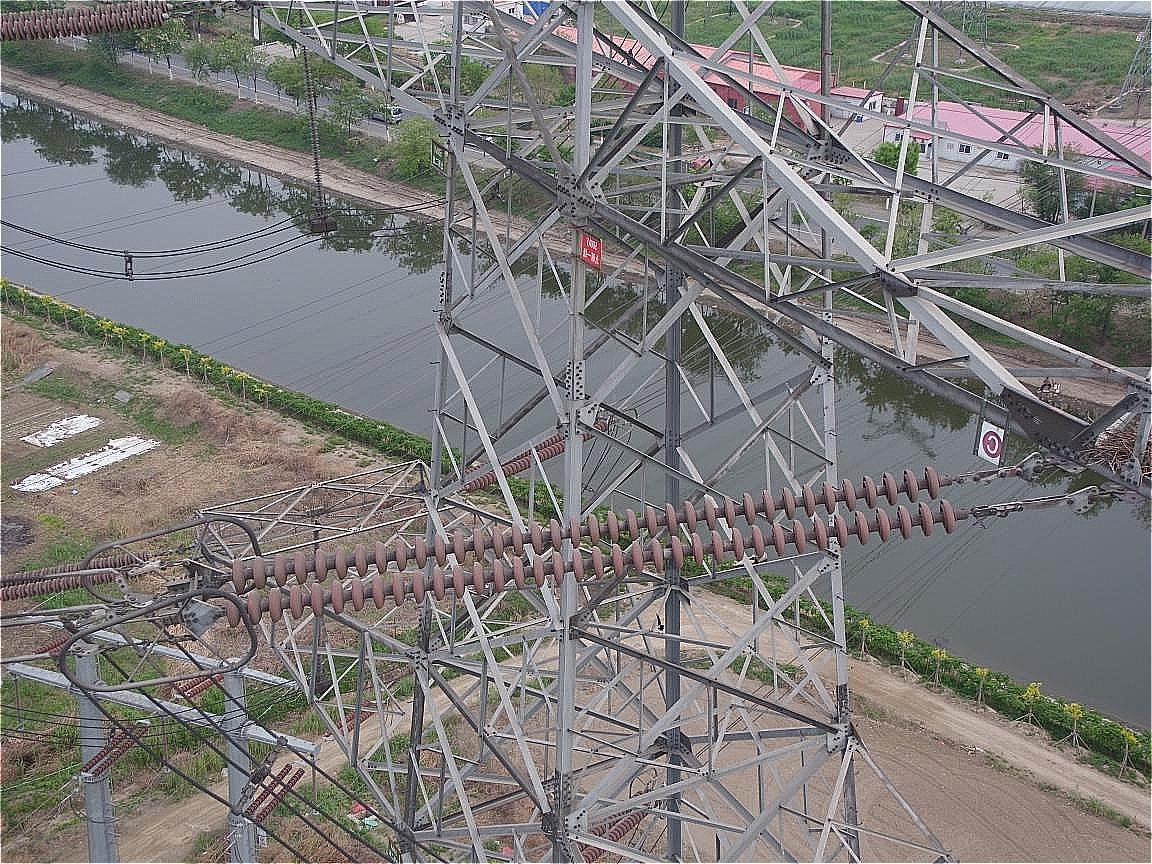insultor1: (137, 461, 967, 642)
